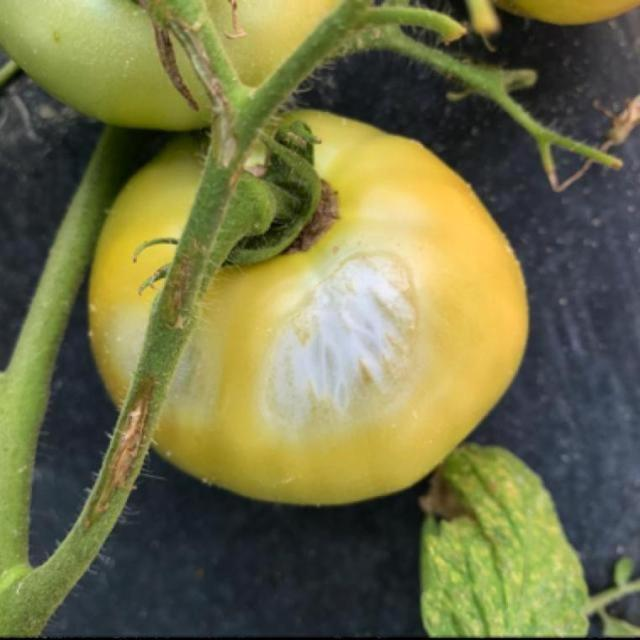Sunscald Fruit: (59, 85, 221, 243)
